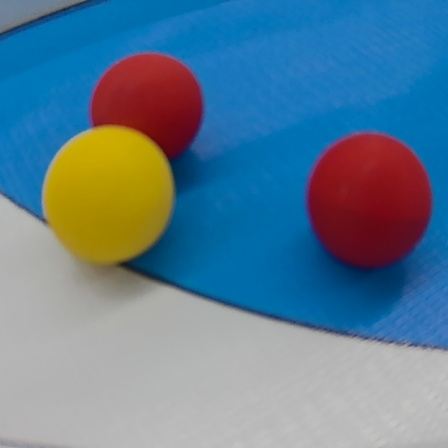blue_base: (2, 2, 448, 351)
red: (300, 133, 437, 272), (85, 47, 205, 166)
yellow: (42, 127, 174, 267)
